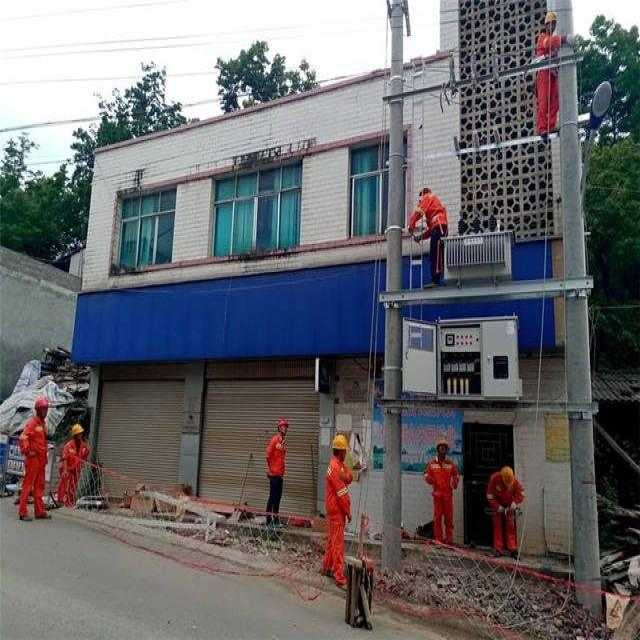helmet: (329, 579, 349, 617), (32, 525, 49, 560), (542, 13, 558, 47), (435, 585, 450, 611), (70, 560, 83, 589), (499, 619, 515, 640), (276, 557, 288, 580)
vest: (21, 558, 49, 630), (425, 615, 456, 640), (324, 615, 354, 640)
